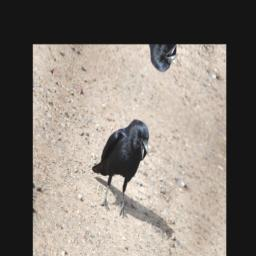Crow: (84, 100, 155, 225)
